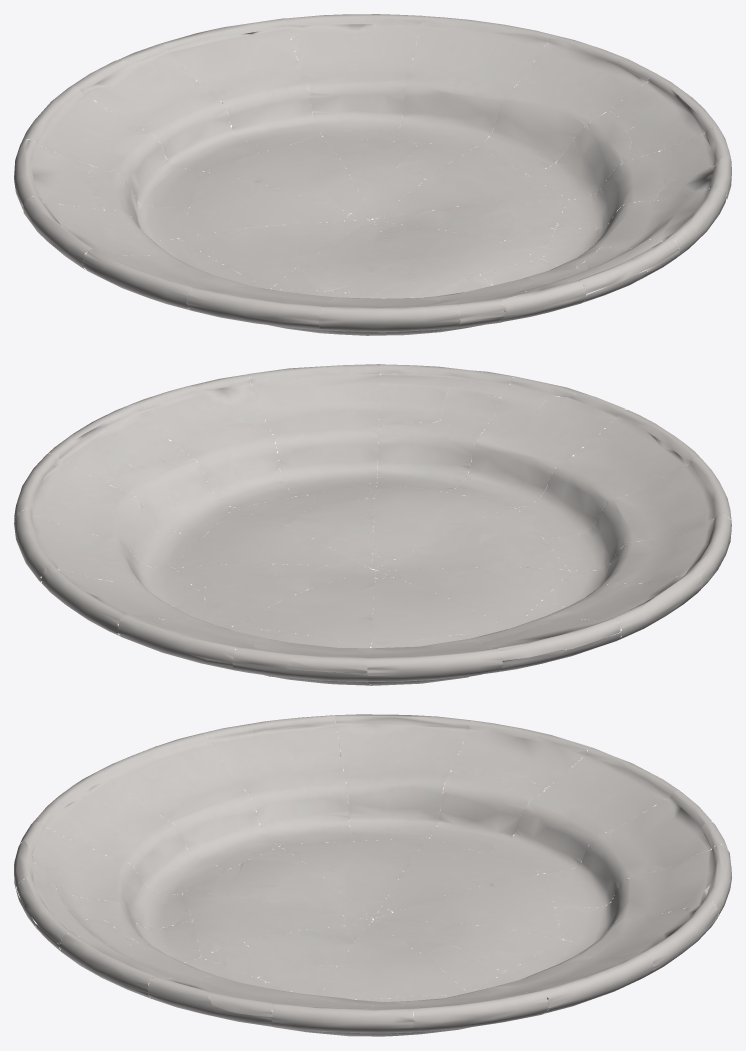
Rendered from plato.glb.
3 renders of one model, top to bottom at view 1: azimuth 30°, elevation 25°; view 2: azimuth 150°, elevation 25°; view 3: azimuth 270°, elevation 25°, orthographic.
Visible parts, largest first — view 1: tripo_node_64748f63-3c4c-45a9-a0c2-794de821e0eb; view 2: tripo_node_64748f63-3c4c-45a9-a0c2-794de821e0eb; view 3: tripo_node_64748f63-3c4c-45a9-a0c2-794de821e0eb.
Boxes of the visible parts, <box> form: tripo_node_64748f63-3c4c-45a9-a0c2-794de821e0eb: <box>14,14,731,335</box>; tripo_node_64748f63-3c4c-45a9-a0c2-794de821e0eb: <box>14,364,731,685</box>; tripo_node_64748f63-3c4c-45a9-a0c2-794de821e0eb: <box>14,714,731,1036</box>.
Size of the model in its own units: 1 by 0.1216 by 0.9989.
Materials: 1 (1 with a texture image).
